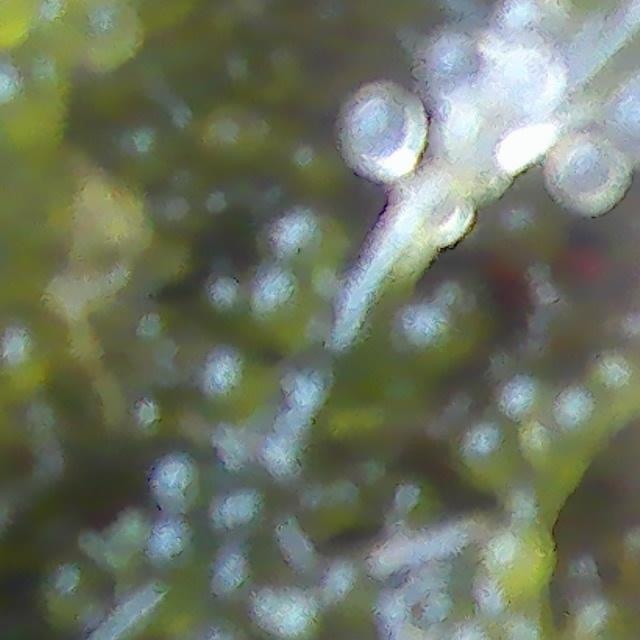SeaGrape: (337, 85, 427, 179), (543, 129, 627, 218), (0, 61, 70, 165), (237, 274, 319, 352), (480, 47, 561, 117), (479, 522, 555, 593), (271, 214, 345, 282), (460, 418, 526, 493), (0, 310, 53, 403), (77, 0, 142, 74), (551, 385, 619, 455), (40, 571, 113, 635), (400, 311, 468, 371), (494, 0, 572, 48), (253, 585, 320, 640), (586, 354, 640, 420), (196, 352, 257, 410), (423, 31, 480, 85), (561, 597, 631, 640), (495, 373, 547, 425), (145, 516, 194, 565), (0, 0, 33, 51)
